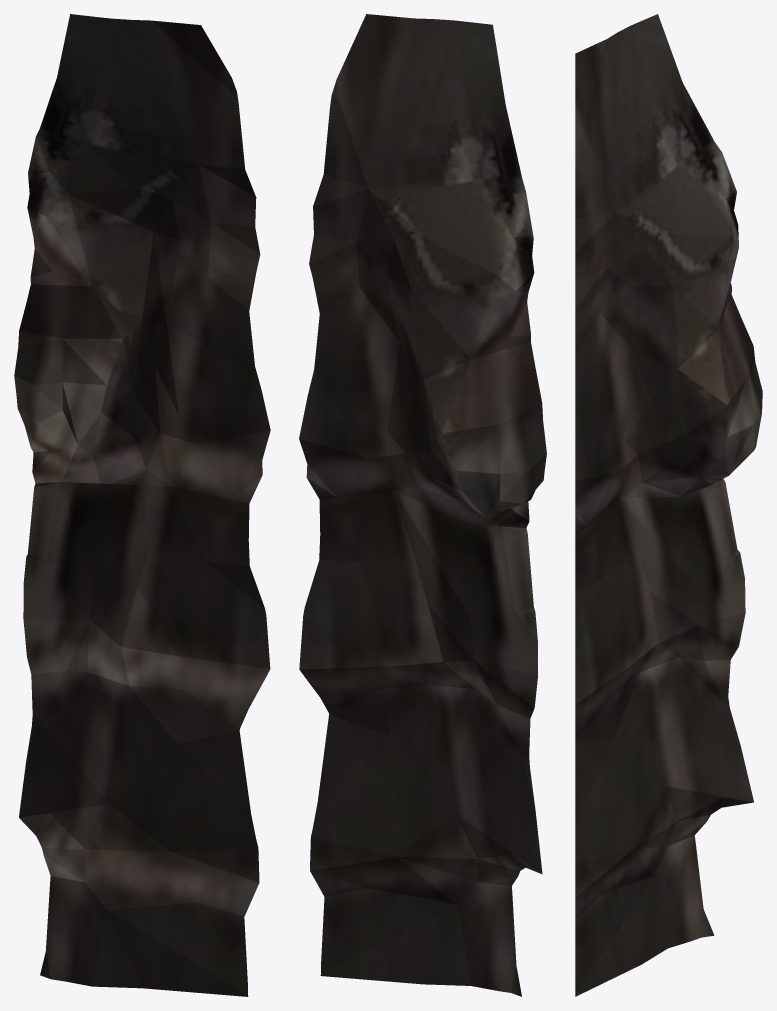
The picture shows the model from 3 angles, left to right: view 1: azimuth 30°, elevation 25°; view 2: azimuth 210°, elevation 25°; view 3: azimuth 270°, elevation 25°; orthographic projection. The views are drawn at different scales.
Bounding box in the file's own units: 0.1394 × 0.8373 × 0.1544.
1 material, 1 textured.
